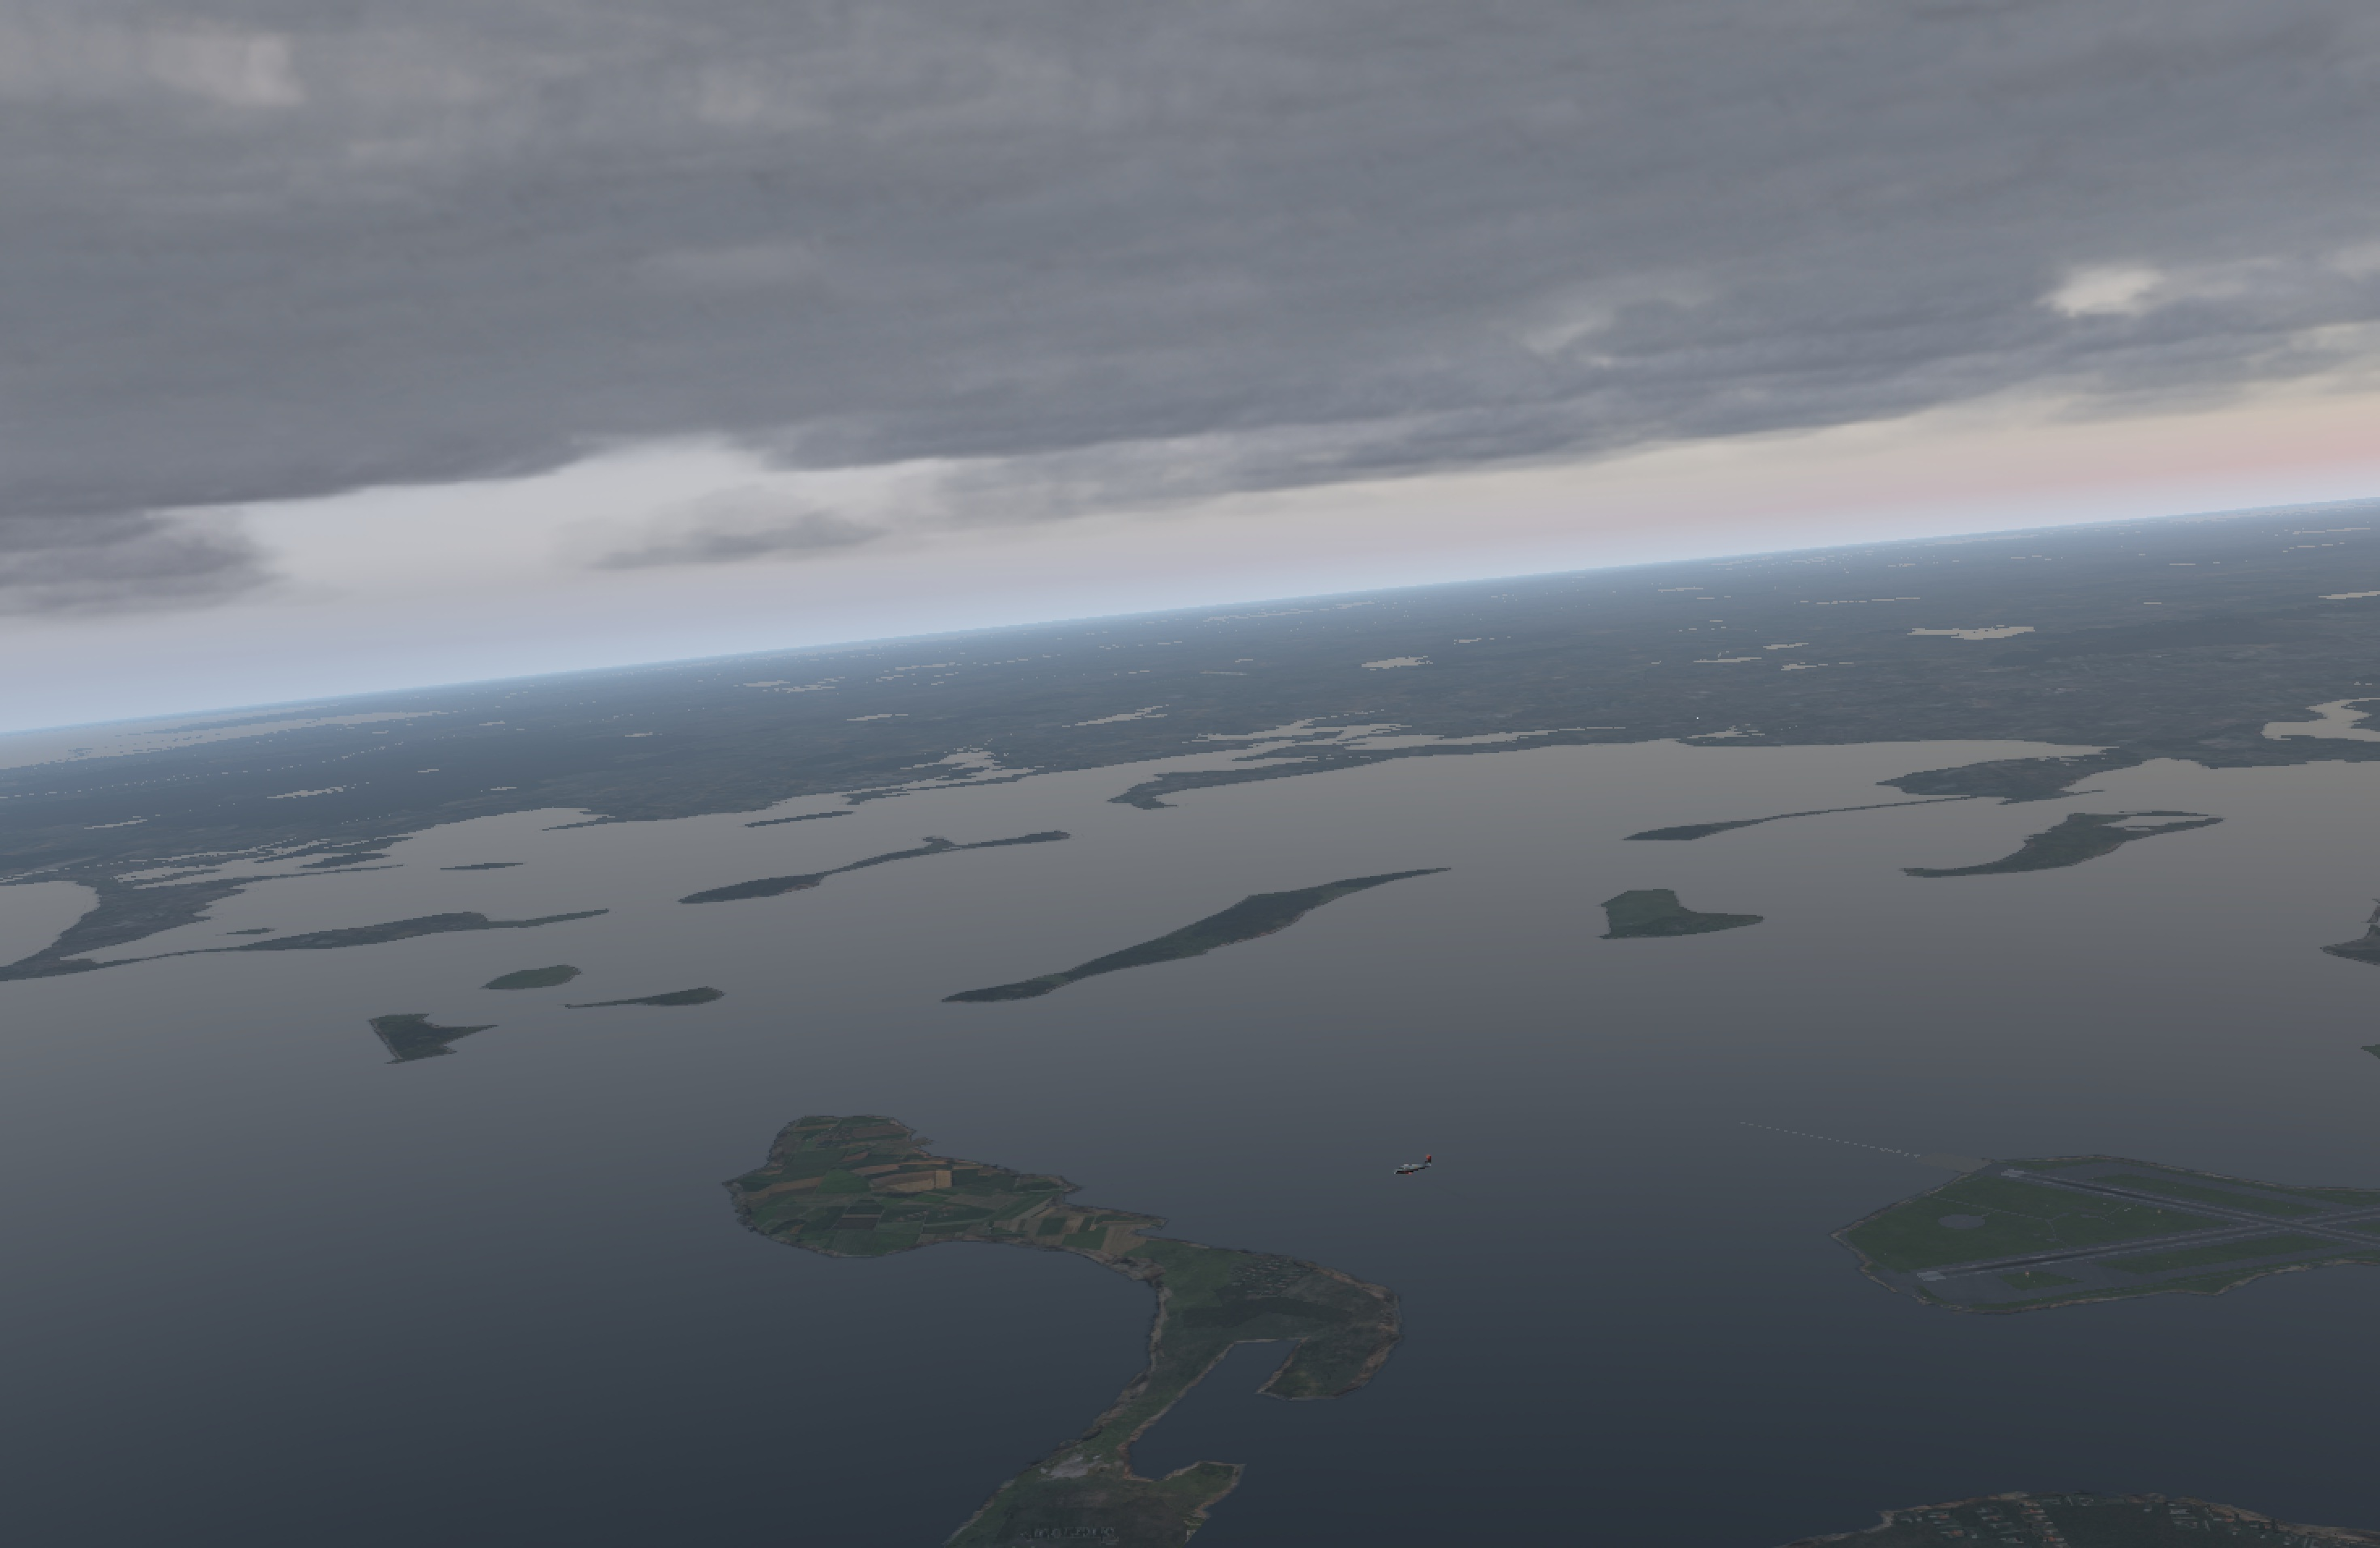aircraft: (1376, 1161, 1435, 1184)
